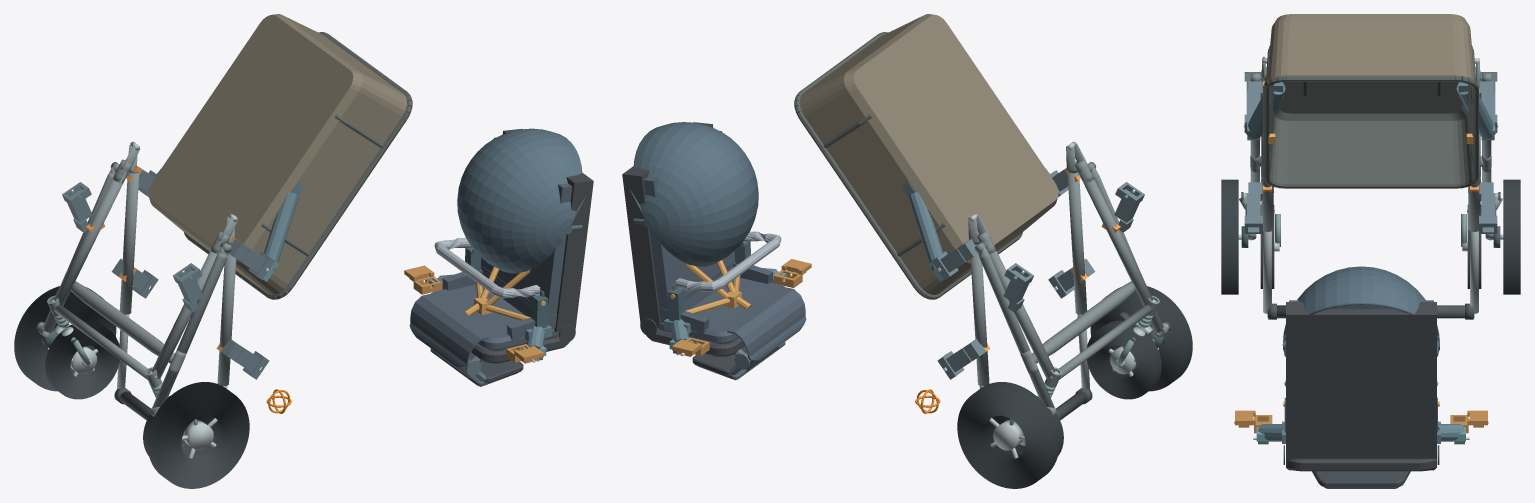
The model's file is D17_w650_state3_wheel_M.glb.
3 views of the same model, side by side, from view 1: azimuth 30°, elevation 25°; view 2: azimuth 150°, elevation 25°; view 3: azimuth 270°, elevation 25° (orthographic). The views are drawn at different scales.
Parts seen in each view (by area): view 1: D17_Lower, D17_Upper, RL_tire.011, FR_tire.011, RR_tire.011, main_upper_1.012, V46_rearbar.011, main_lower_1.012, V46_rear_leg_-1.011, main_upper_-1.012, D17_Lower_Mount_M, main_lower_-1.012 (+9 smaller); view 2: D17_Lower, D17_Upper, RR_tire.011, FL_tire.011, RL_tire.011, main_upper_-1.012, V46_rearbar.011, main_lower_-1.012, V46_rear_leg_1.011, main_upper_1.012, D17_Lower_Mount_M, main_lower_1.012 (+9 smaller); view 3: D17_Lower, D17_Upper, RL_tire.011, RR_tire.011, D17_Lower_Mount_M, D17_Upper_Mount_H, Universal_Cabin_Receiver_H_1, Universal_Cabin_Receiver_H_-1, handle_slider_1.013, handle_slider_-1.013, main_upper_1.012, main_upper_-1.012 (+7 smaller).
Boxes of the visible parts, <box> form: D17_Lower: <box>148,14,412,299</box>; D17_Upper: <box>409,128,593,386</box>; RL_tire.011: <box>147,382,249,488</box>; FR_tire.011: <box>45,320,119,399</box>; RR_tire.011: <box>14,286,116,391</box>; main_upper_1.012: <box>119,172,139,314</box>; V46_rearbar.011: <box>71,281,174,363</box>; main_lower_1.012: <box>53,172,126,305</box>; V46_rear_leg_-1.011: <box>152,252,227,407</box>; main_upper_-1.012: <box>217,244,236,385</box>; D17_Lower_Mount_M: <box>156,169,304,281</box>; main_lower_-1.012: <box>151,250,219,379</box>; D17_Lower: <box>794,14,1058,299</box>; D17_Upper: <box>622,122,806,380</box>; RR_tire.011: <box>957,382,1059,488</box>; FL_tire.011: <box>1087,320,1161,399</box>; RL_tire.011: <box>1090,286,1192,391</box>; main_upper_-1.012: <box>1067,172,1087,314</box>; V46_rearbar.011: <box>1032,281,1135,363</box>; main_lower_-1.012: <box>1080,172,1153,305</box>; V46_rear_leg_1.011: <box>979,252,1054,407</box>; main_upper_1.012: <box>970,244,989,385</box>; D17_Lower_Mount_M: <box>902,168,1050,281</box>; main_lower_1.012: <box>986,249,1055,379</box>; D17_Lower: <box>1263,14,1478,188</box>; D17_Upper: <box>1282,266,1439,488</box>; RL_tire.011: <box>1221,179,1238,294</box>; RR_tire.011: <box>1503,179,1520,294</box>; D17_Lower_Mount_M: <box>1243,82,1498,140</box>; D17_Upper_Mount_H: <box>1253,421,1469,444</box>; Universal_Cabin_Receiver_H_1: <box>1479,182,1497,233</box>; Universal_Cabin_Receiver_H_-1: <box>1244,182,1262,233</box>; handle_slider_1.013: <box>1470,231,1478,313</box>; handle_slider_-1.013: <box>1263,231,1271,313</box>; main_upper_1.012: <box>1468,88,1480,231</box>; main_upper_-1.012: <box>1261,88,1273,231</box>.
Size of the model in its own units: 1.52 by 1.1 by 0.781.
